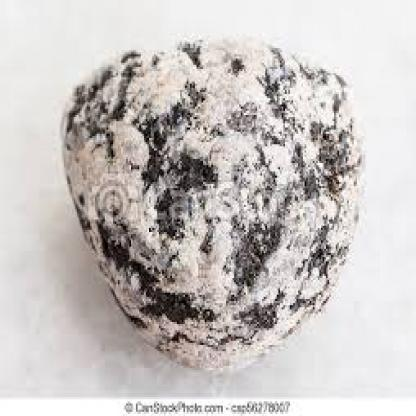Igneous_Diorite: (54, 34, 367, 376)
